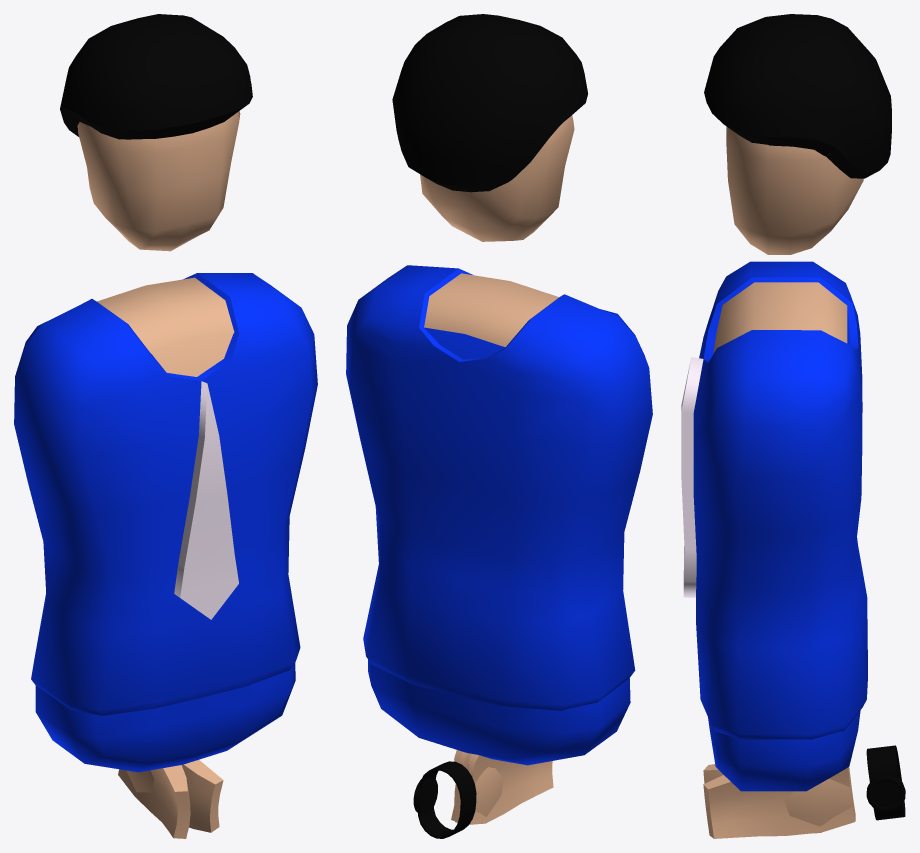
File: StudentMaleAvatar.fbx
3 views of the same model, side by side, from view 1: azimuth 30°, elevation 25°; view 2: azimuth 150°, elevation 25°; view 3: azimuth 270°, elevation 25° (orthographic). The views are drawn at different scales.
Visible parts, largest first — view 1: Body2, Hair2, Head2, HandL, HandR; view 2: Body2, Hair2, Head2, HandL, Watch, HandR; view 3: Body2, Hair2, Head2, HandR, Watch, HandL.
Boxes of the visible parts, bbox=[...] form: Body2: bbox=[14, 273, 317, 772]; Hair2: bbox=[60, 14, 252, 139]; Head2: bbox=[77, 111, 240, 251]; HandL: bbox=[118, 765, 190, 838]; HandR: bbox=[126, 760, 223, 832]; Body2: bbox=[346, 265, 652, 765]; Hair2: bbox=[392, 14, 587, 192]; Head2: bbox=[420, 115, 574, 241]; HandL: bbox=[454, 752, 553, 824]; Watch: bbox=[413, 761, 476, 838]; HandR: bbox=[451, 750, 503, 823]; Body2: bbox=[681, 261, 867, 791]; Hair2: bbox=[704, 14, 891, 178]; Head2: bbox=[726, 126, 863, 254]; HandR: bbox=[703, 767, 855, 838]; Watch: bbox=[866, 745, 905, 820]; HandL: bbox=[703, 764, 855, 833].
Size of the model in its own units: 46.46 by 129 by 32.68.
